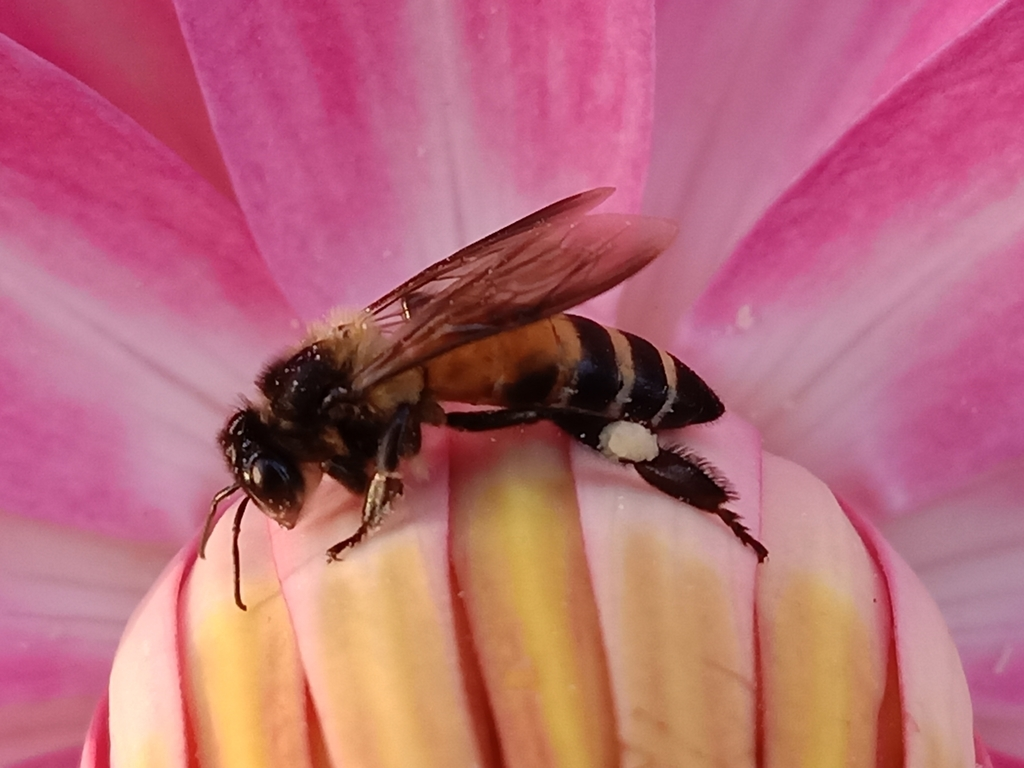not_bumblebee: (197, 183, 773, 611)
